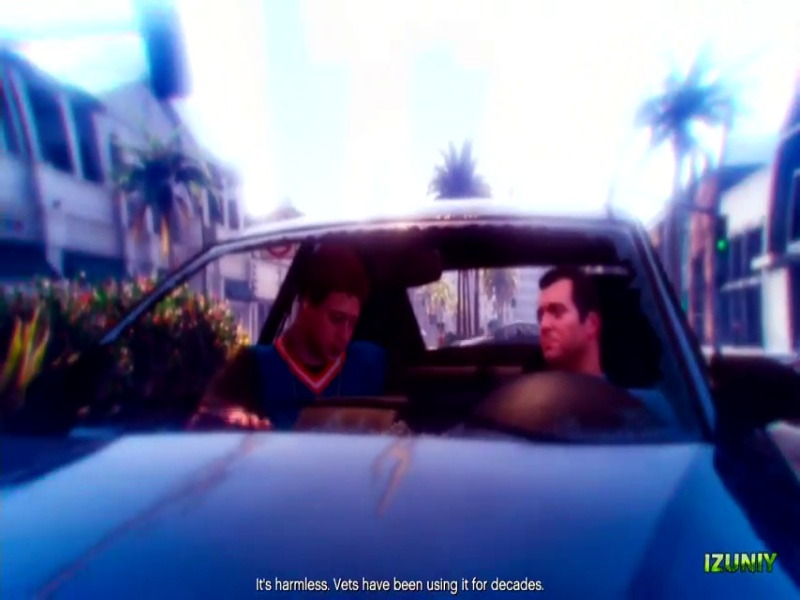human: (198, 230, 401, 432)
